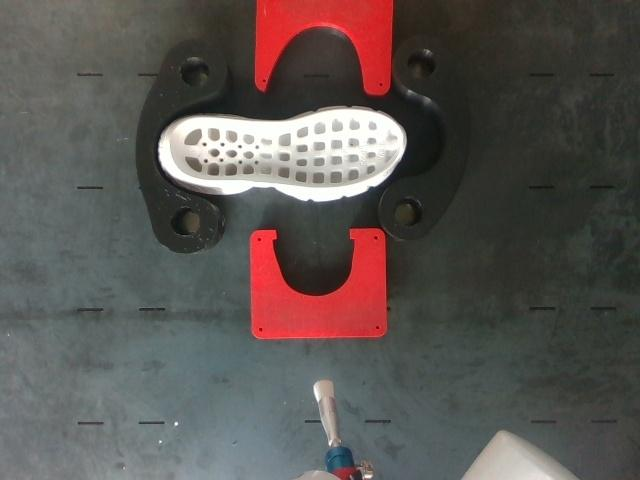shoes: (168, 109, 404, 187)
